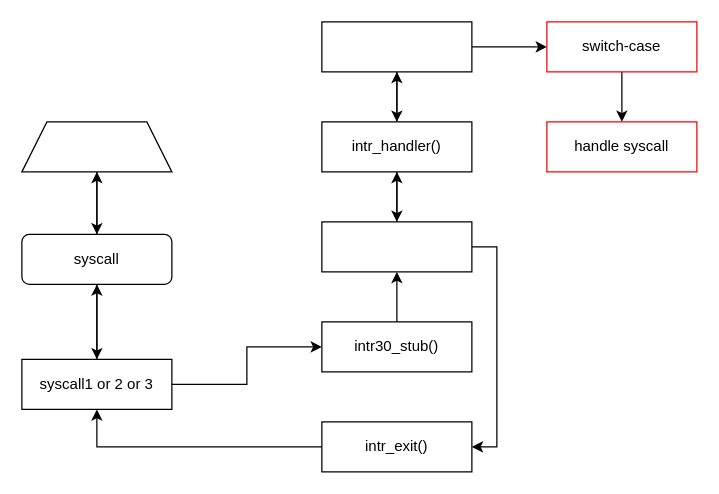
Image size: 719x494. Some labels were removed from this diagram. Each missing label, with the centre of its shape:
intr_entry(): [396,246]
syscall_handler(): [396,46]
User Program: [96,146]
